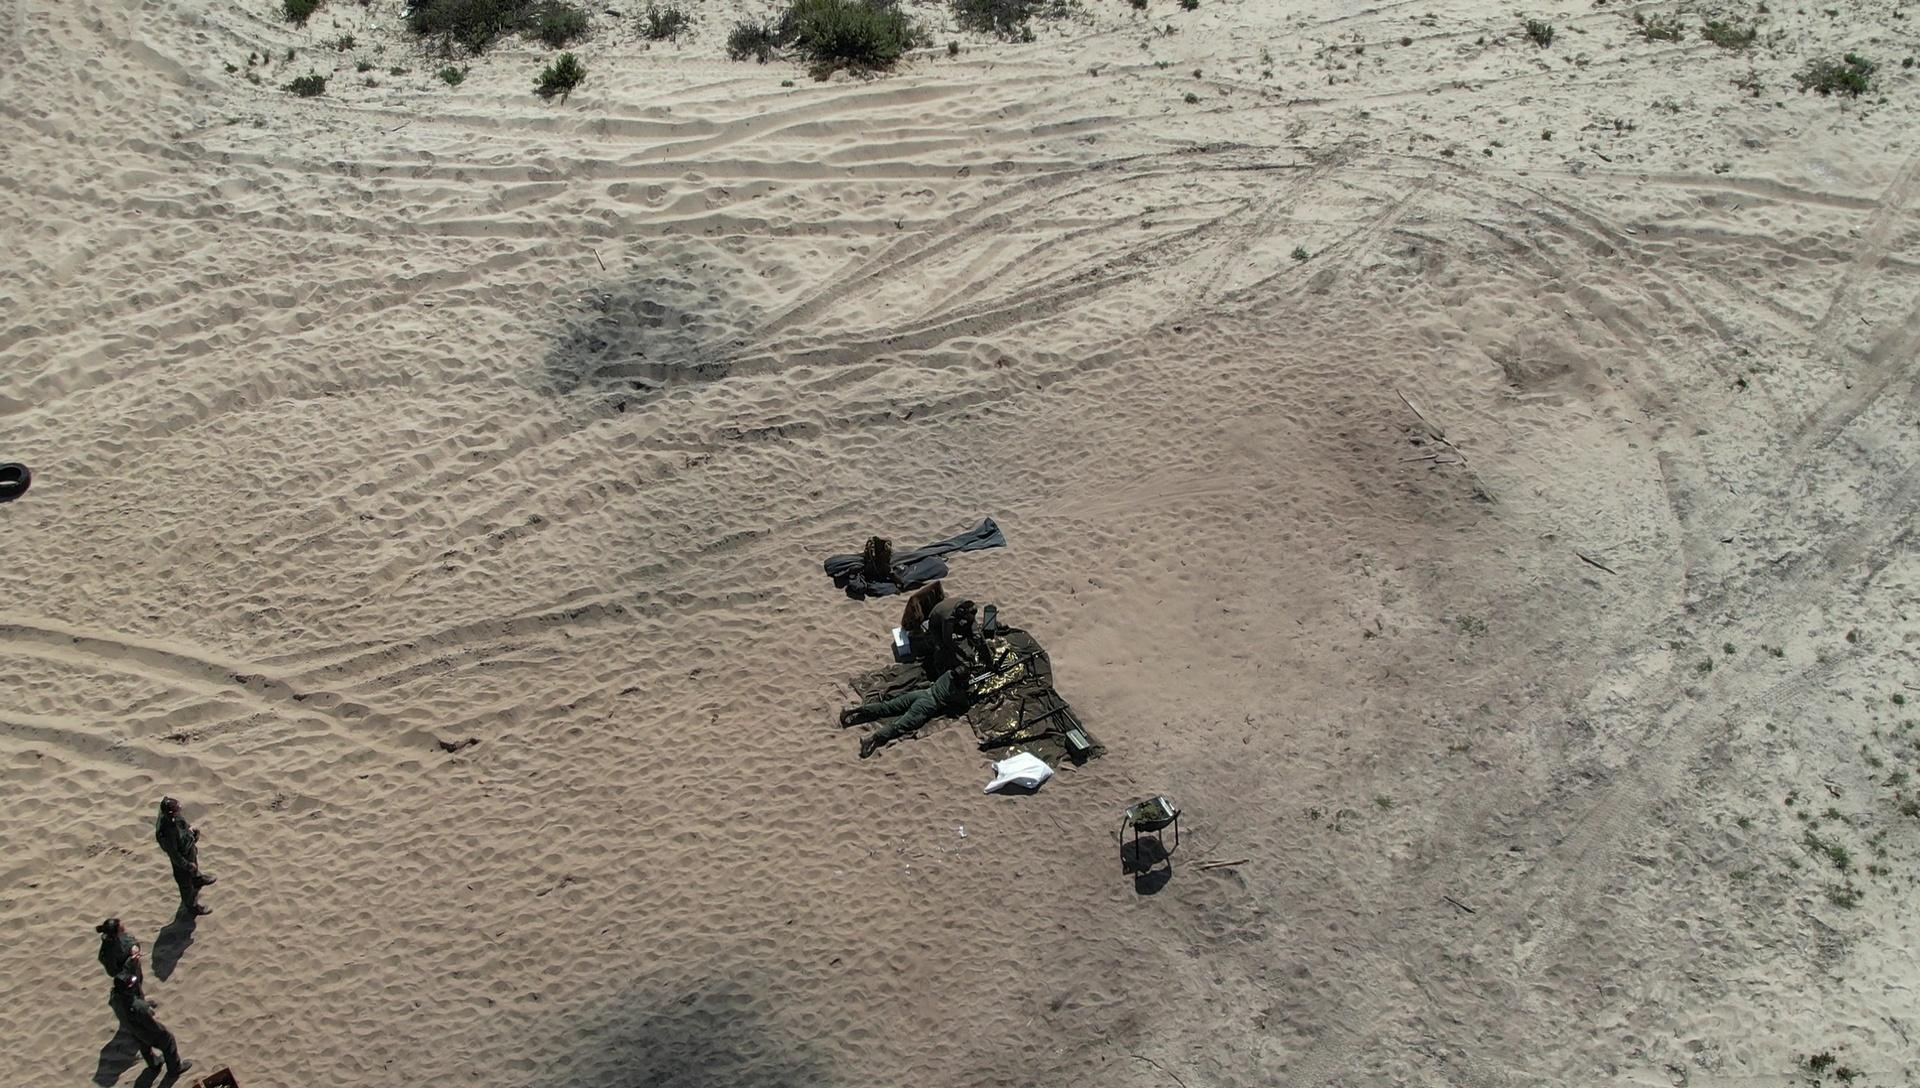Soldier: (858, 626, 1014, 746), (899, 580, 997, 699), (145, 794, 225, 938), (96, 965, 183, 1087), (94, 915, 154, 1023)
